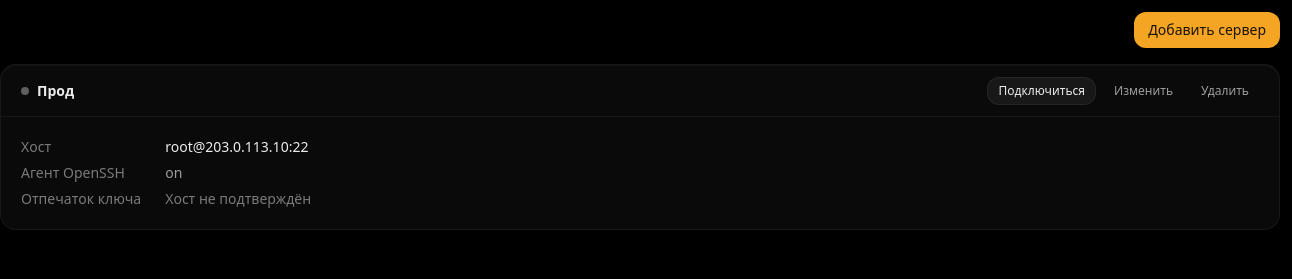
Test: удаление › отказ удаления виден, а не проглатывается
The width and height of the screenshot is (1292, 279).
What coordinates should you click on to do the following:
click the button "Удалить"
I would click on:
 (1225, 90)
Its box is [1191, 76, 1259, 104].
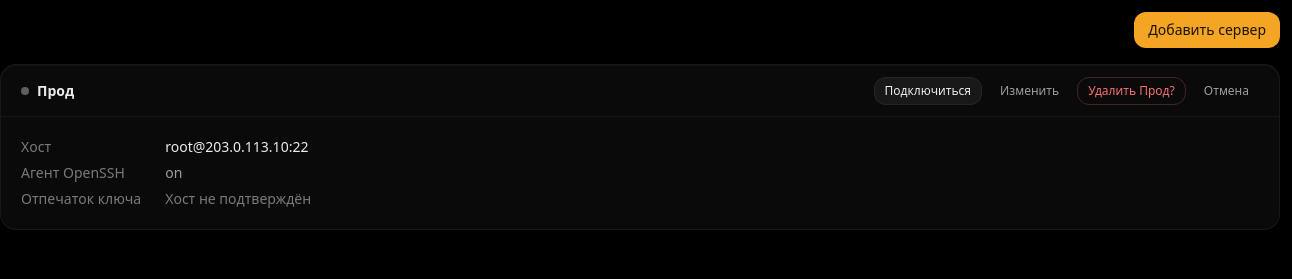
What coordinates should you click on to do the following:
click the button "Удалить Прод?"
I would click on:
 (1131, 90)
Its box is [1077, 76, 1186, 104].
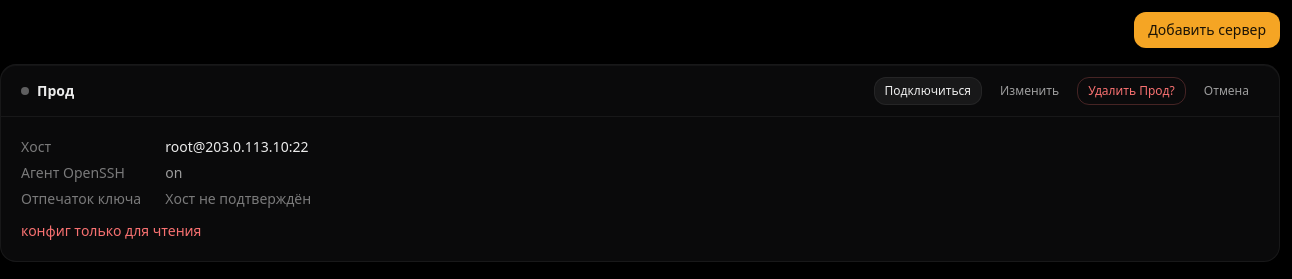
Result: the text "конфиг только для чтения" is shown at [21, 221, 202, 240]
